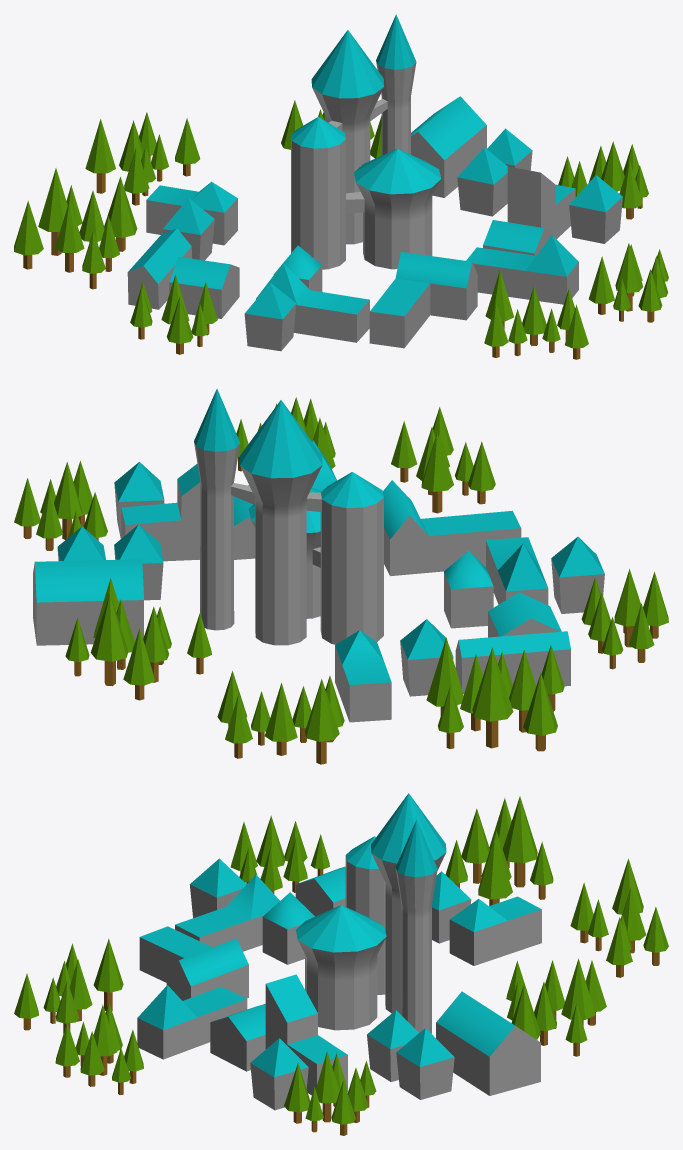
Rendered from zachtown.fbx.
3 renders of one model, top to bottom at view 1: azimuth 30°, elevation 25°; view 2: azimuth 150°, elevation 25°; view 3: azimuth 270°, elevation 25°, orthographic. The views are drawn at different scales.
Visible parts, largest first — view 1: polySurface134; view 2: polySurface134; view 3: polySurface134.
Part boxes in pixels (bbox=[...]): polySurface134: bbox=[14, 14, 668, 359]; polySurface134: bbox=[14, 388, 668, 764]; polySurface134: bbox=[14, 793, 668, 1135].
Bounding box in the file's own units: 35.88 × 12.87 × 35.59.
